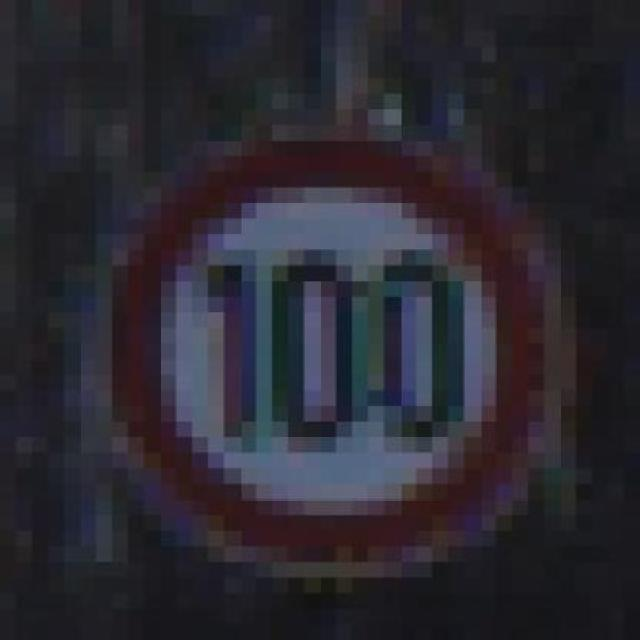forb_speed_over_100: (128, 135, 548, 571)
